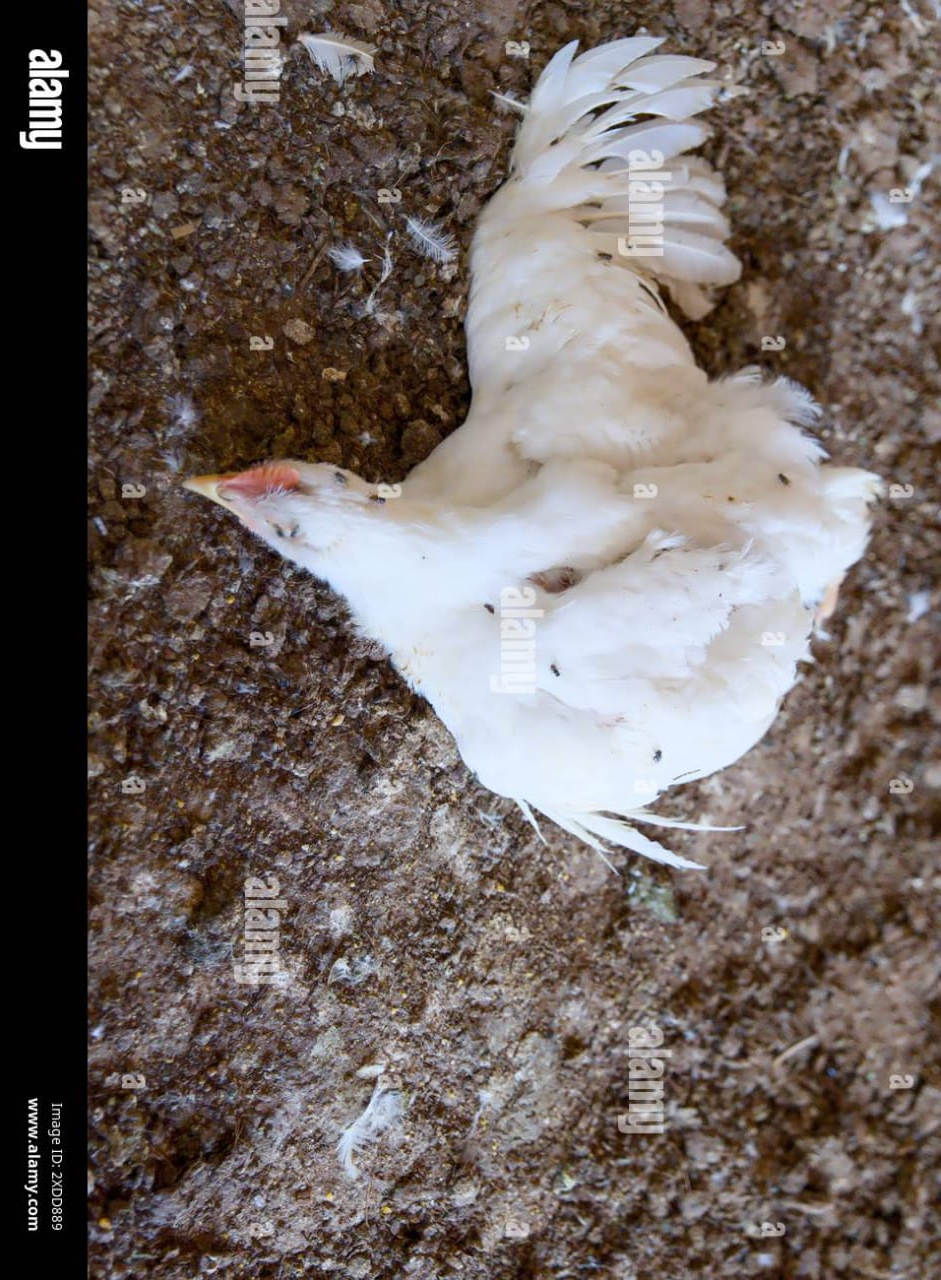Unhealthy: (170, 29, 895, 887)
